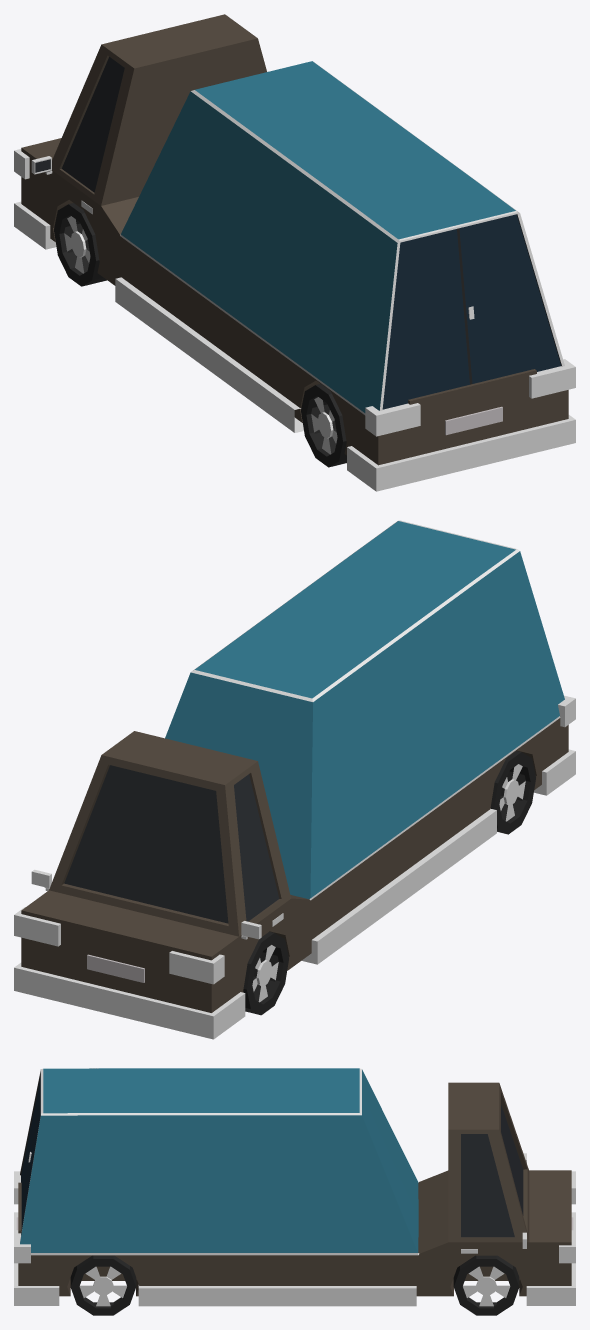
File: Truck.fbx
3 renders of one model, top to bottom at view 1: azimuth 30°, elevation 25°; view 2: azimuth 150°, elevation 25°; view 3: azimuth 270°, elevation 25°, orthographic. The views are drawn at different scales.
Visible parts, largest first — view 1: Truck; view 2: Truck; view 3: Truck.
Boxes of the visible parts, left/top/right/bottom form: Truck: left=14, top=14, right=575, bottom=491; Truck: left=14, top=520, right=575, bottom=1039; Truck: left=14, top=1068, right=575, bottom=1315.
Bounding box in the file's own units: 478 × 488 × 1320.
